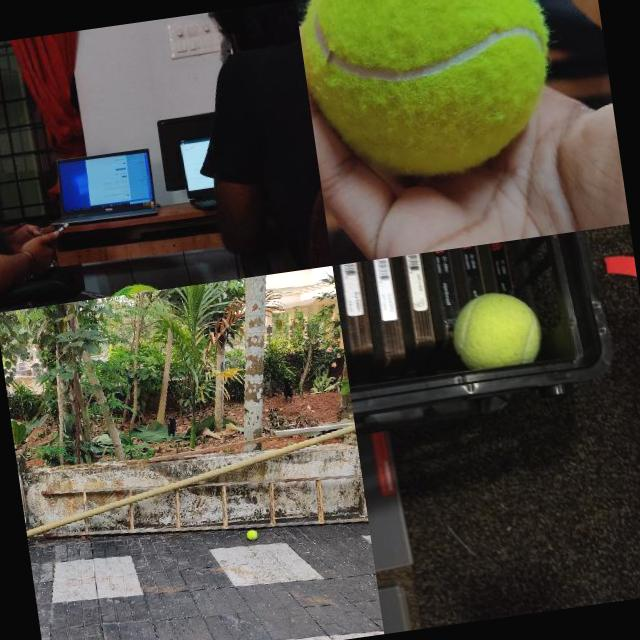Tennis Ball: (296, 0, 564, 189), (446, 284, 546, 370), (245, 529, 258, 540)
